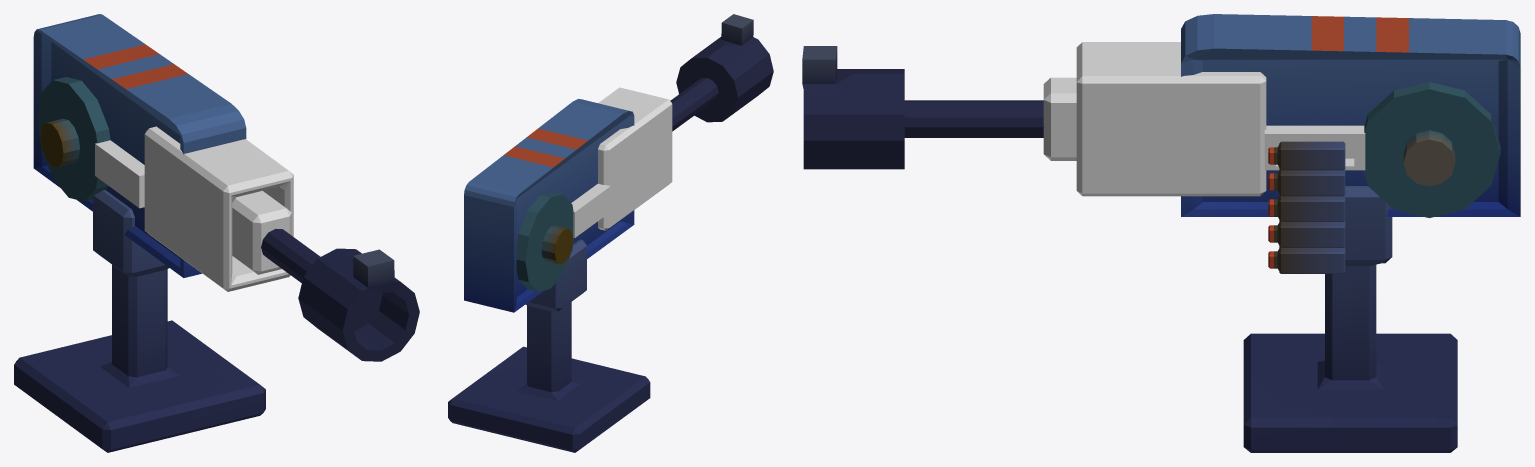
Rendered from АВТОМАТ 1.fbx.
3 renders of one model, left to right at view 1: azimuth 30°, elevation 25°; view 2: azimuth 150°, elevation 25°; view 3: azimuth 270°, elevation 25°, orthographic. The views are drawn at different scales.
Parts seen in each view (by area): view 1: Cube.009, Cube.006, Cube.005, Cylinder.005, Cylinder.006, Cube.004, Cube.007; view 2: Cube.009, Cube.006, Cube.005, Cylinder.005, Cylinder.006, Cube.007; view 3: Cube.006, Cube.009, Cube.005, Cylinder.005, Cylinder.006, Cube.008, Cube.004, Cube.007.
Part boxes in pixels (x1,y1,x2,y2): Cube.009: (14,190,265,452); Cube.006: (33,14,246,277); Cube.005: (144,126,293,291); Cylinder.005: (261,228,419,361); Cylinder.006: (37,77,110,201); Cube.004: (232,191,291,274); Cube.007: (95,140,144,208); Cube.009: (448,239,650,452); Cube.006: (464,99,634,312); Cube.005: (598,87,672,230); Cylinder.005: (670,14,773,131); Cylinder.006: (516,192,573,291); Cube.007: (571,183,610,237); Cube.006: (1181,14,1520,216); Cube.009: (1243,186,1457,452); Cube.005: (1076,42,1266,196); Cylinder.005: (802,46,1043,169); Cylinder.006: (1363,82,1500,217); Cube.008: (1268,141,1345,273); Cube.004: (1043,77,1076,160); Cube.007: (1264,125,1365,170).
Size of the model in its own units: 347 by 679 by 1164.
